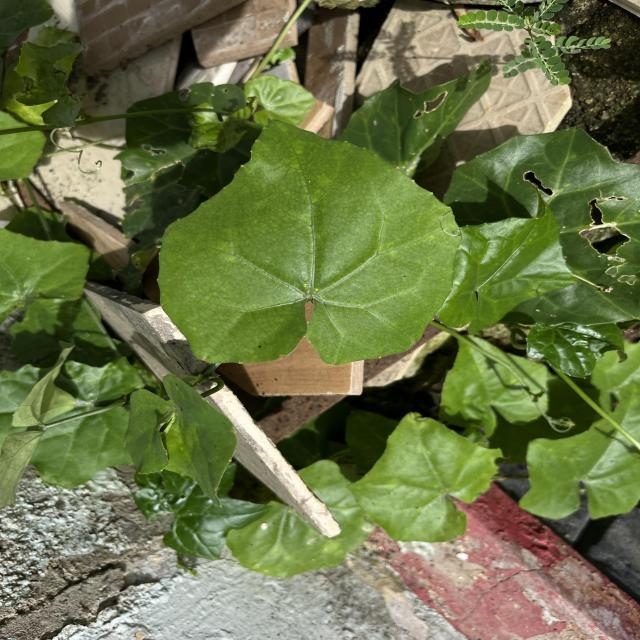Coccinia grandis: (155, 115, 465, 368)
